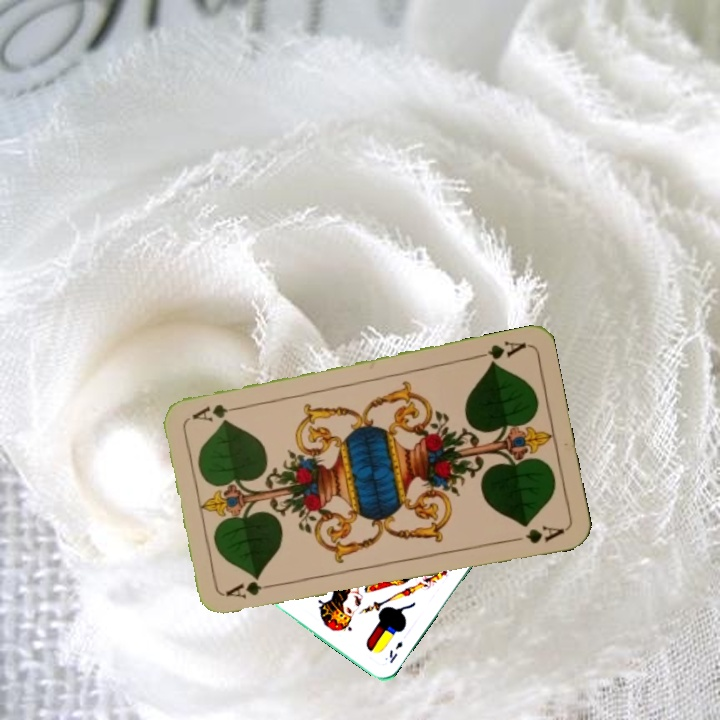EK: (385, 637, 405, 665)
GA: (470, 337, 529, 368), (222, 577, 281, 602)
